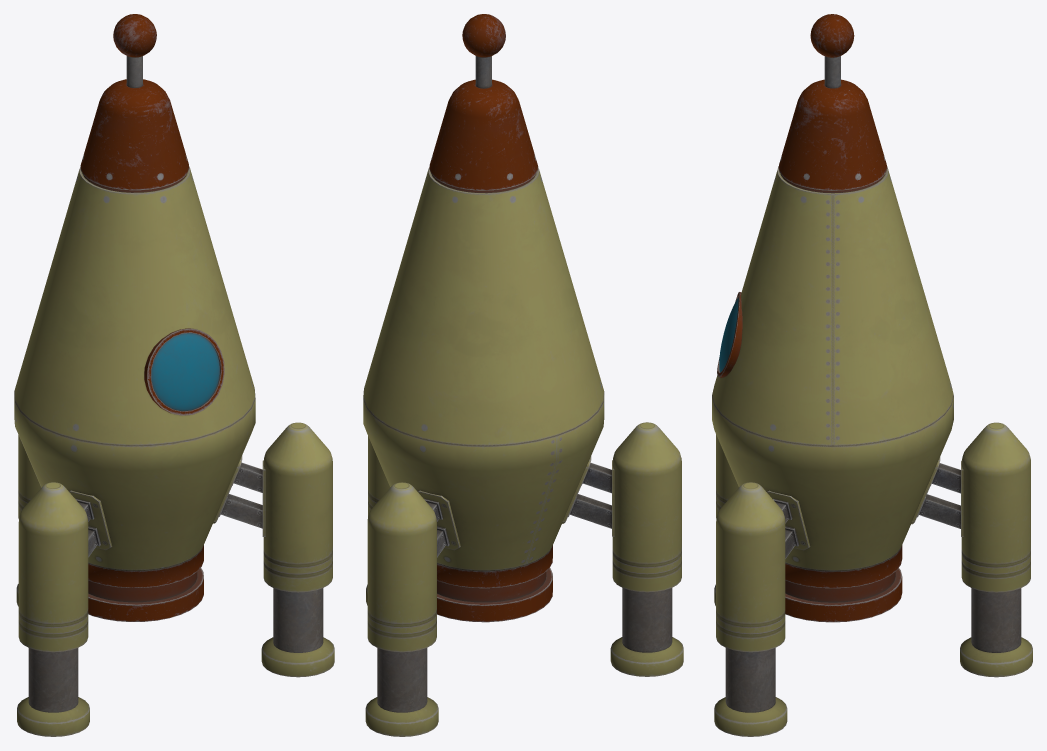
File: Rocket_2.fbx
3 renders of one model, left to right at view 1: azimuth 30°, elevation 25°; view 2: azimuth 150°, elevation 25°; view 3: azimuth 270°, elevation 25°, orthographic.
Visible parts, largest first — view 1: Rocket_2; view 2: Rocket_2; view 3: Rocket_2.
Boxes of the visible parts, x1,y1,x2,y2 form: Rocket_2: (14, 14, 334, 736); Rocket_2: (363, 14, 683, 736); Rocket_2: (712, 14, 1032, 736).
Bounding box in the file's own units: 76.23 × 153 × 68.79.
